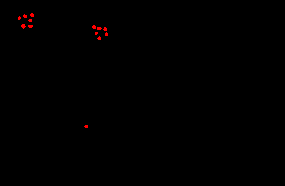Target: (21, 24, 26, 29), (30, 13, 34, 17), (23, 14, 27, 18), (92, 25, 96, 29), (103, 27, 107, 31), (97, 36, 101, 40), (28, 25, 33, 28), (97, 27, 102, 30), (18, 16, 21, 20), (28, 19, 32, 22), (105, 32, 108, 36), (84, 125, 88, 128), (95, 32, 98, 35)
